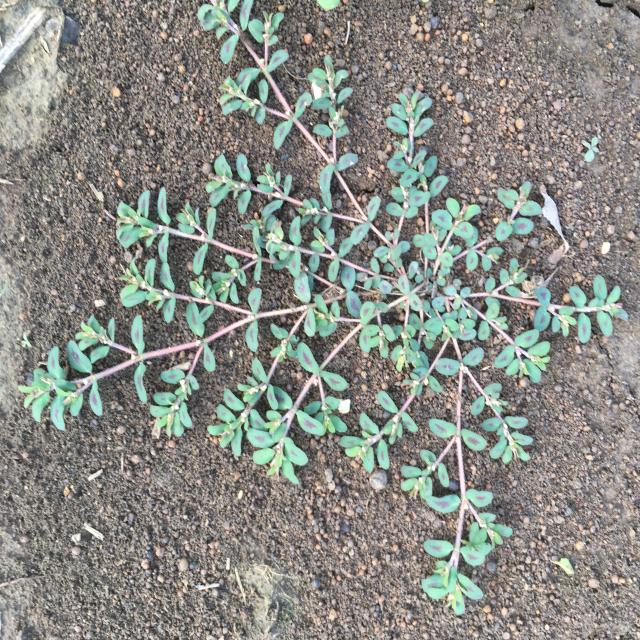SpottedSpurge: (18, 0, 628, 615)
